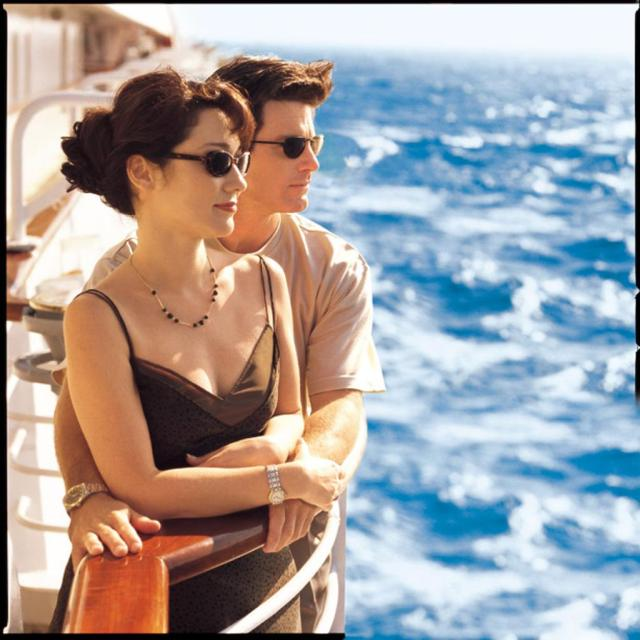Face: (166, 113, 251, 233), (260, 88, 334, 217)
